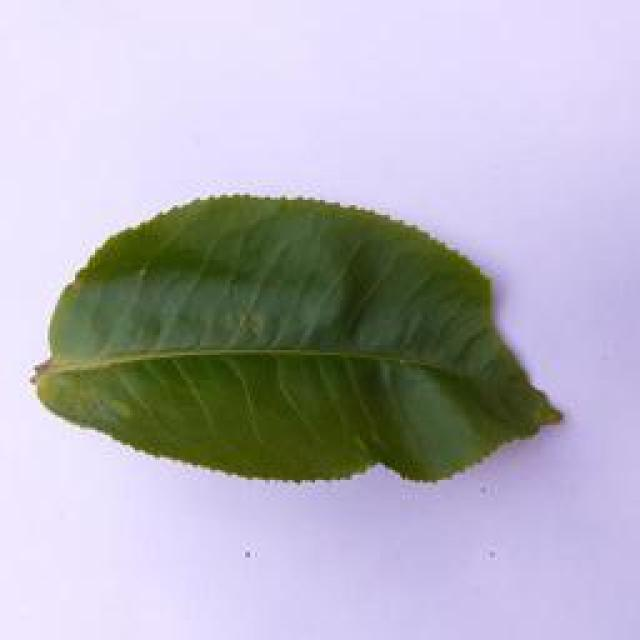Healthy: (22, 185, 575, 486)
